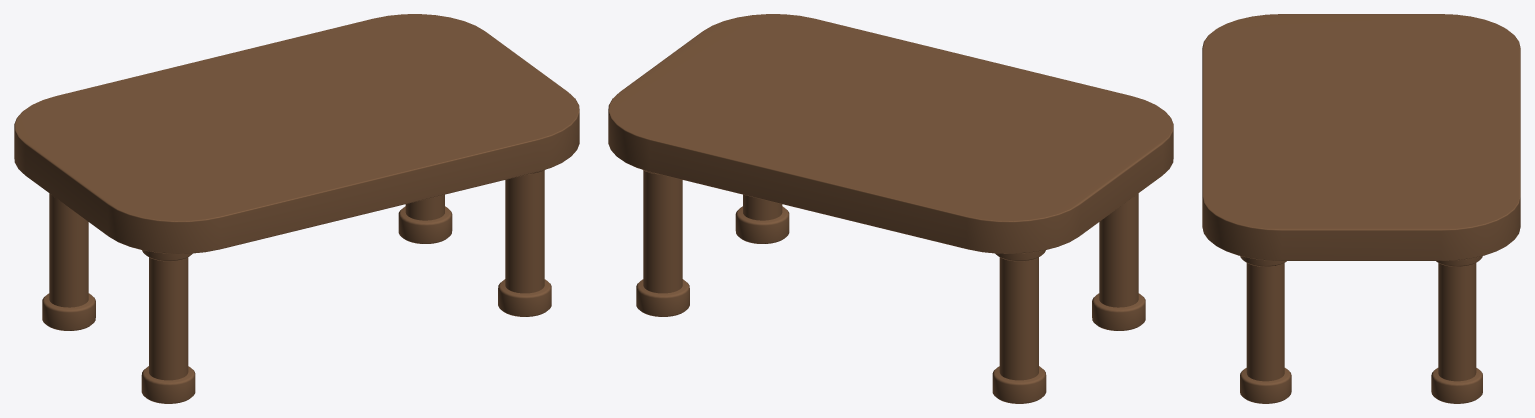
The model's file is mesa decoracion.fbx.
3 views of the same model, side by side, from view 1: azimuth 30°, elevation 25°; view 2: azimuth 150°, elevation 25°; view 3: azimuth 270°, elevation 25° (orthographic). The views are drawn at different scales.
Parts seen in each view (by area): view 1: Table; view 2: Table; view 3: Table.
Part boxes in pixels (x1,y1,x2,y2): Table: (14, 14, 579, 403); Table: (608, 14, 1173, 403); Table: (1202, 14, 1520, 403).
Size of the model in its own units: 185 by 75.15 by 115.
1 material, 1 textured.
